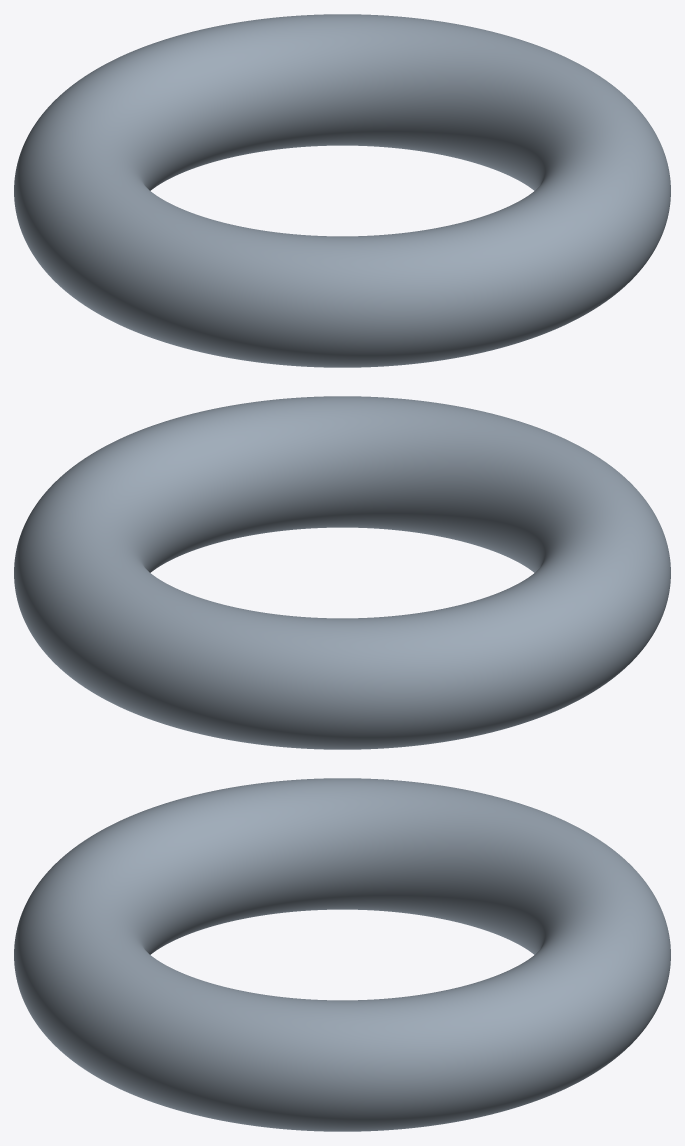
Rendered from blender_large_normal_no_tangents.glb.
3 renders of one model, top to bottom at view 1: azimuth 30°, elevation 25°; view 2: azimuth 150°, elevation 25°; view 3: azimuth 270°, elevation 25°, orthographic.
Visible parts, largest first — view 1: HighPolyMachinedRing; view 2: HighPolyMachinedRing; view 3: HighPolyMachinedRing.
Boxes of the visible parts, x1,y1,x2,y2 form: HighPolyMachinedRing: (14,14,670,367); HighPolyMachinedRing: (14,396,670,749); HighPolyMachinedRing: (14,778,670,1131).
Bounding box in the file's own units: 5 × 0.9996 × 5.
